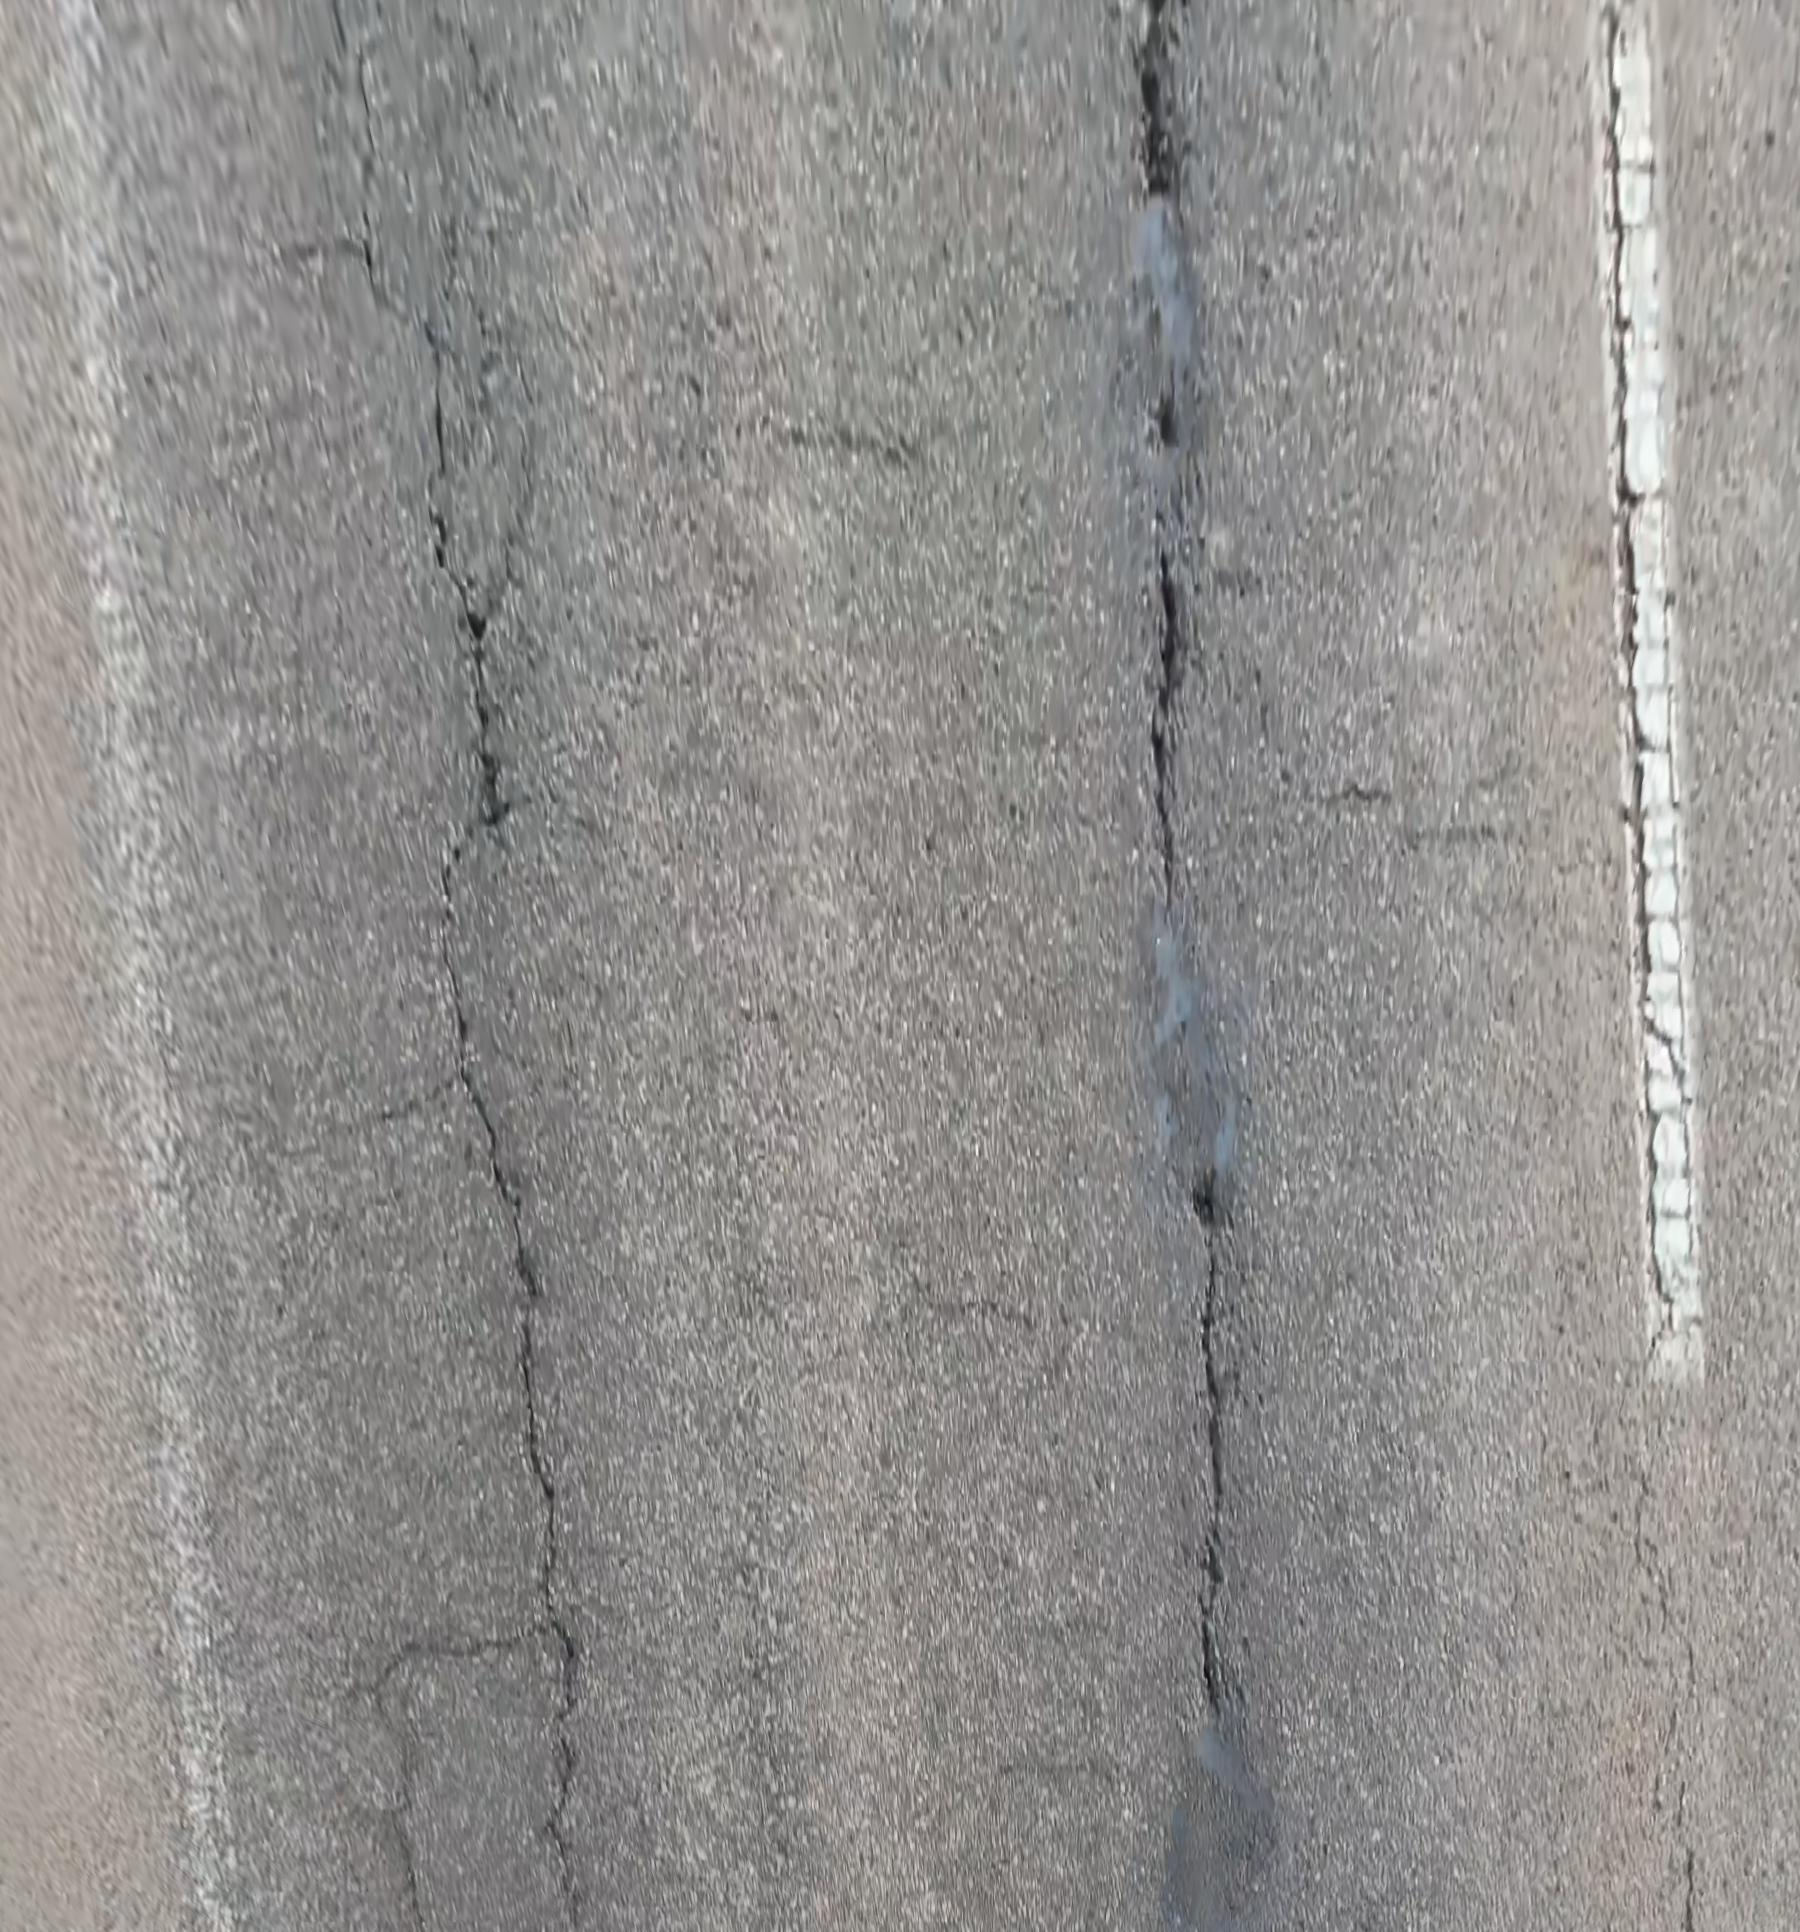pothole_patch_good: (1142, 924, 1232, 1225), (1162, 1705, 1257, 1930), (1120, 176, 1198, 404)
